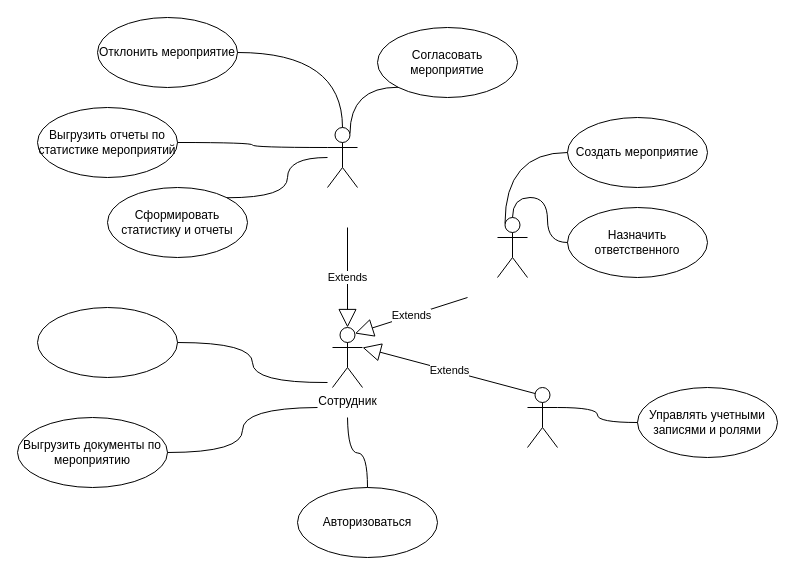
This 795x575 diagram has some shape labels left out. The centre of each missing label's shape, as x and y in pixels:
"ИТ-администратор" belongs at (x=542, y=417).
"Редактировать карточку мероприятия" belongs at (x=107, y=342).
"Руководитель СП" belongs at (x=512, y=247).
"Художественный руководитель" belongs at (x=342, y=157).
